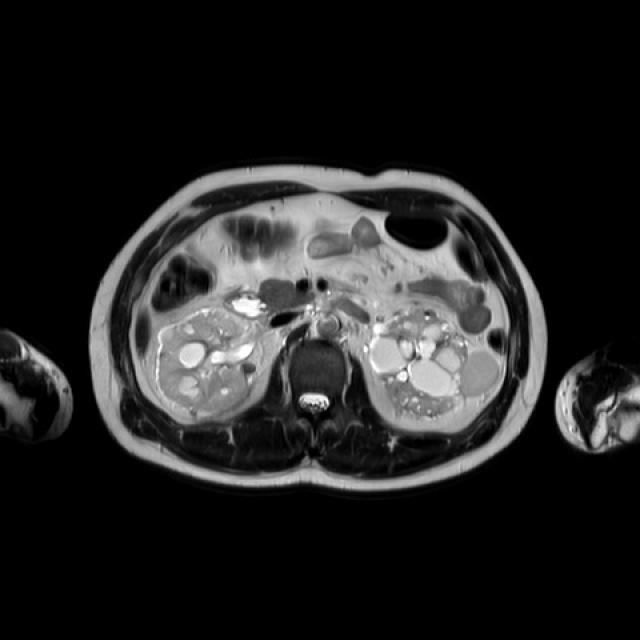sag: (154, 306, 265, 417)
sol: (368, 304, 502, 421)
